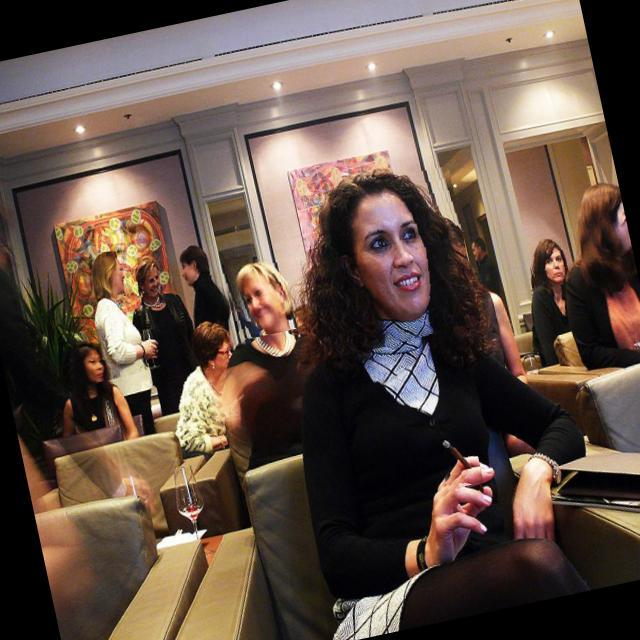cigarette: (428, 413, 484, 492)
